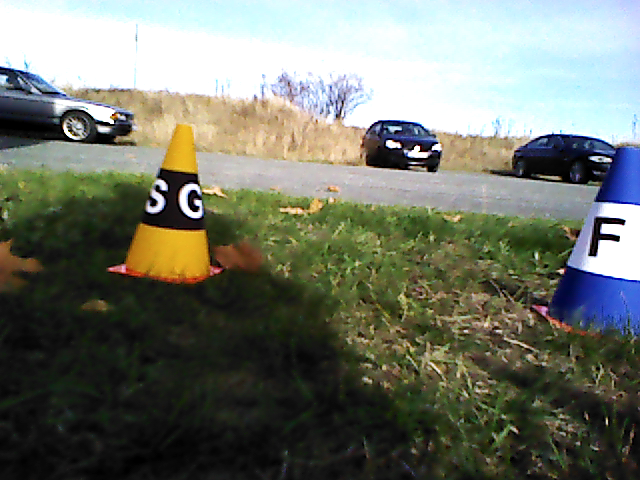bluecone: (551, 147, 640, 334)
yellowcone: (127, 123, 210, 272)
